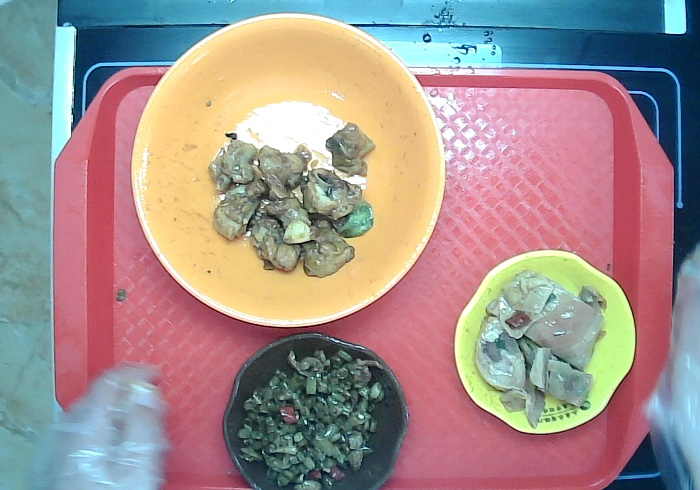YKMZ-Huang_Se_Ao_Bian_Wan: (447, 237, 645, 439)
YKMZ-Ju_Se_Tang_Wan: (122, 1, 452, 331)
YKMZ-Ka_Fei_Ao_Bian_Wan: (202, 326, 414, 490)
